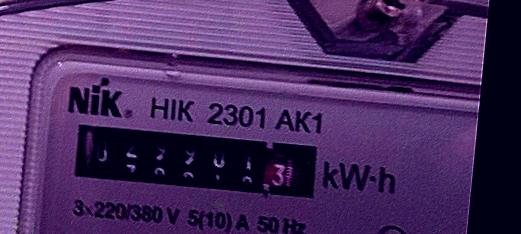0: (89, 134, 110, 163), (208, 140, 227, 170)
1: (239, 142, 255, 171)
2: (120, 131, 140, 160)
3: (267, 159, 286, 187)
9: (150, 134, 168, 163), (181, 138, 196, 166)
screen: (62, 112, 328, 209)
